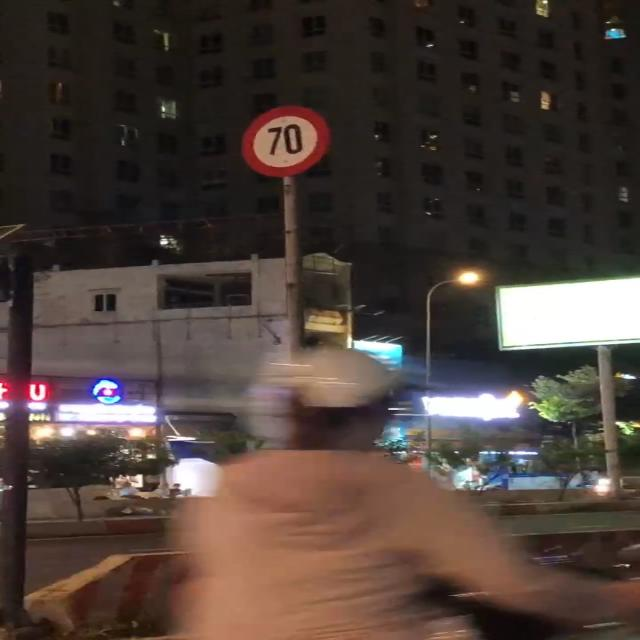Bien bao toc do toi da cho phep: (225, 99, 346, 181)
